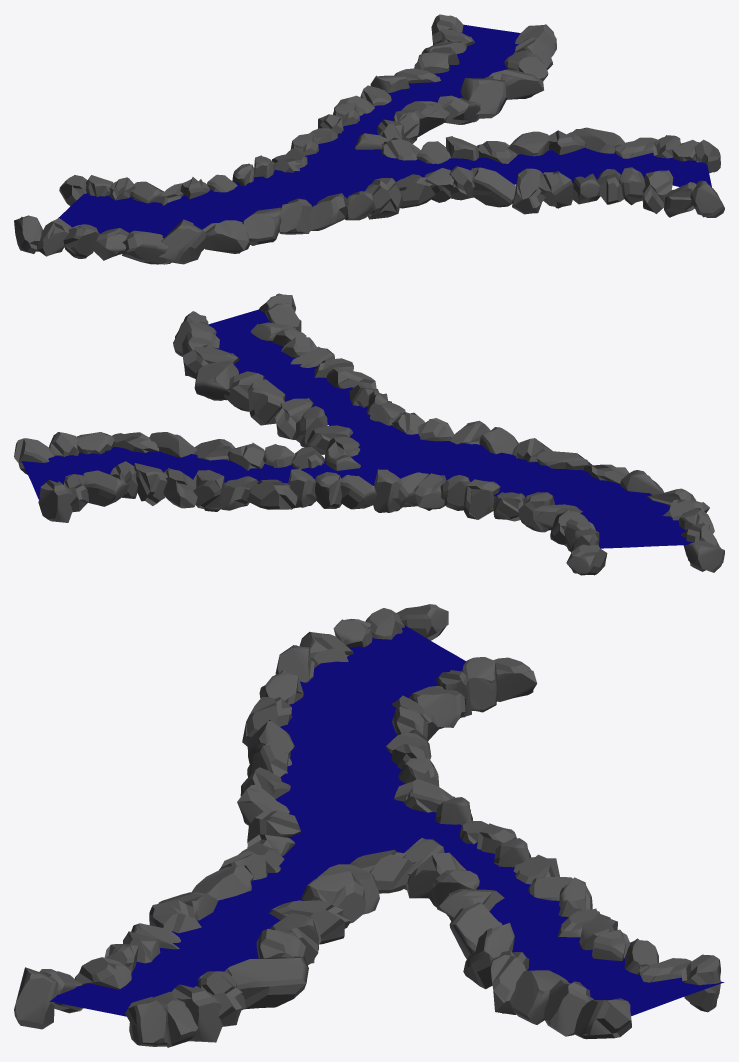
The model's file is River4.obj.
The picture shows the model from 3 angles, top to bottom: view 1: azimuth 30°, elevation 25°; view 2: azimuth 150°, elevation 25°; view 3: azimuth 270°, elevation 25°; orthographic projection. The views are drawn at different scales.
Parts seen in each view (by area): view 1: Rocks River4, River4 Water; view 2: Rocks River4, River4 Water; view 3: Rocks River4, River4 Water.
Boxes of the visible parts, box(x1,y1,x2,y2) form: Rocks River4: box(14, 14, 724, 264); River4 Water: box(58, 24, 711, 237); Rocks River4: box(14, 293, 724, 575); River4 Water: box(21, 309, 693, 548); Rocks River4: box(14, 604, 720, 1047); River4 Water: box(49, 625, 724, 1016).
Size of the model in its own units: 30.2 by 1.91 by 21.54.
